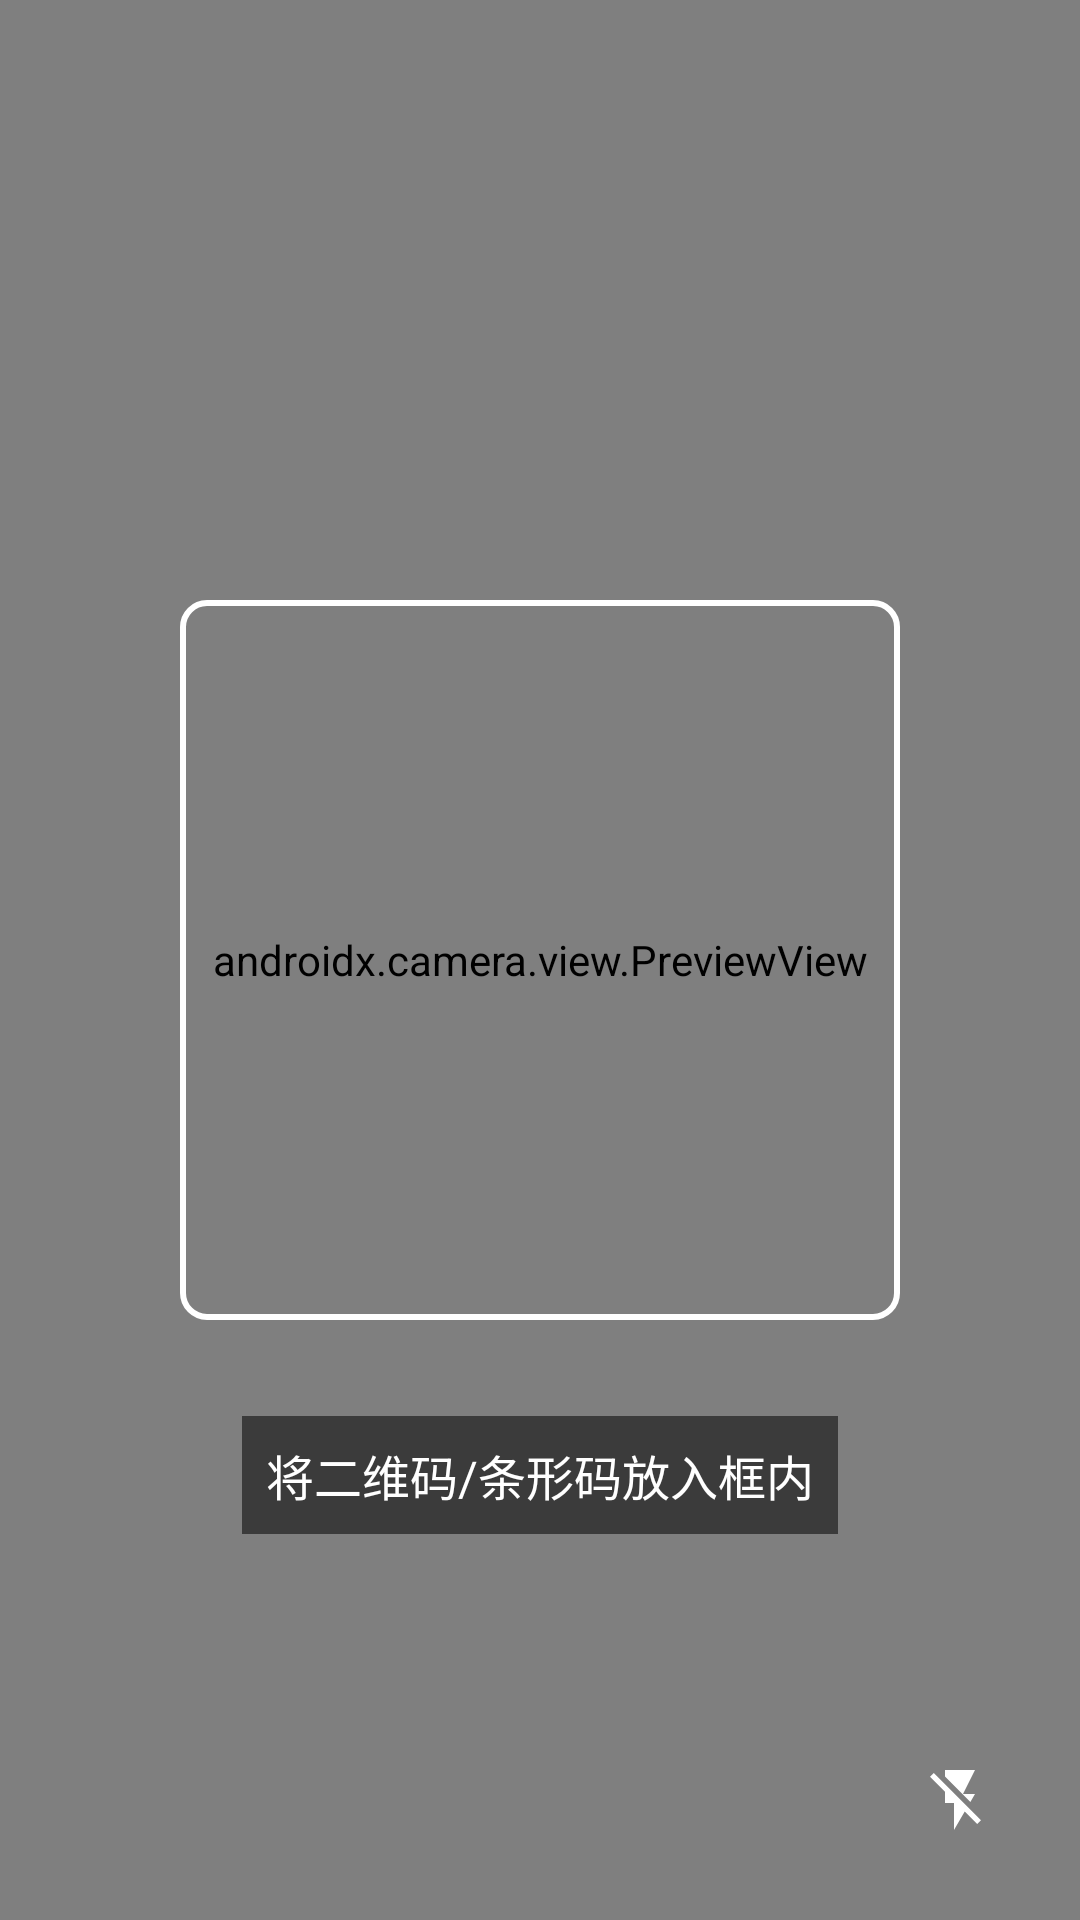

Icon click points for this 1080 × 1920 phone screenshot, format (x,y):
闪光灯: (955,1800)
